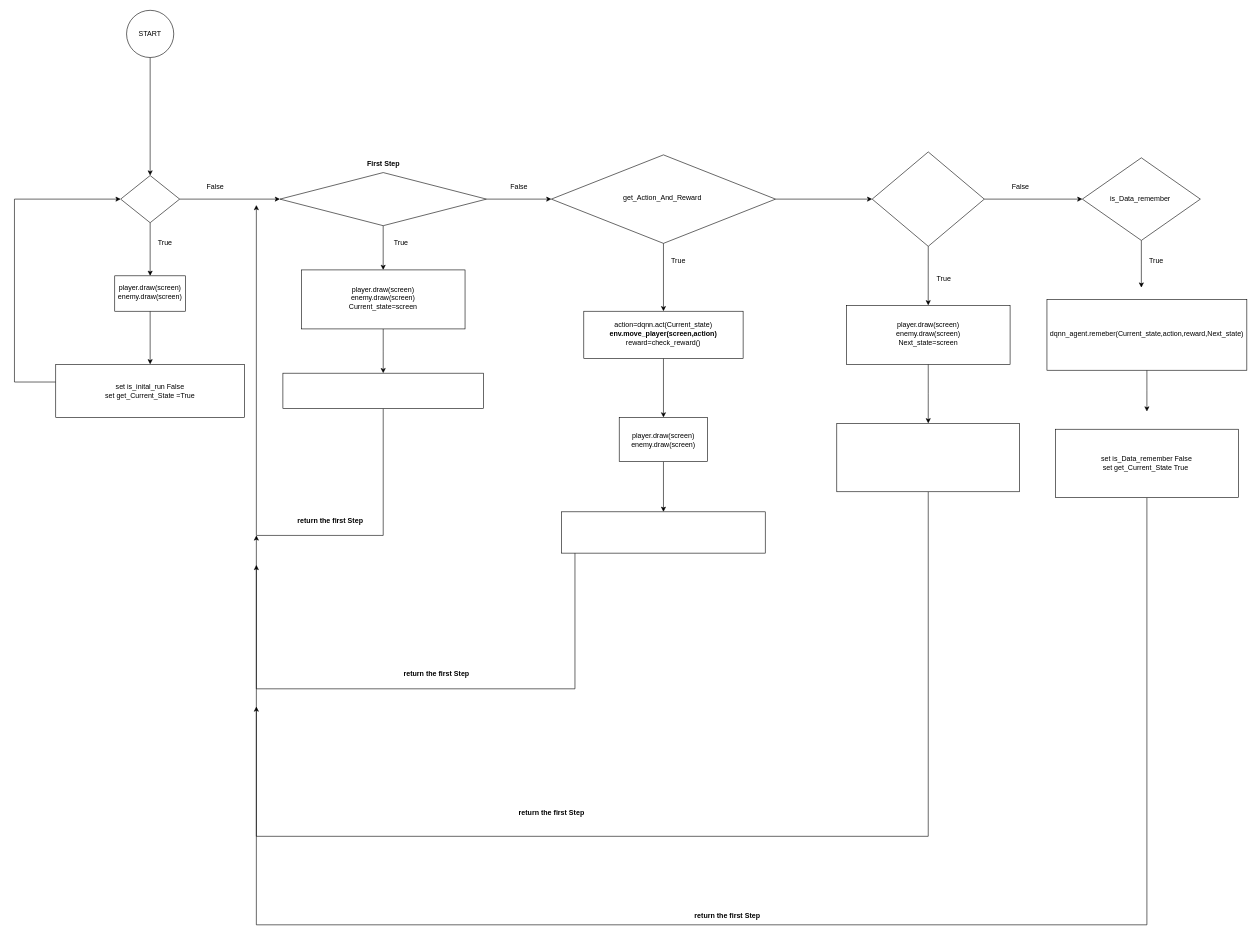
This 1257x940 diagram has some shape labels left out. The centre of each missing label's shape, as x and y in pixels:
"get_Current_State" goes at (x=382, y=199).
"get_Next_State" goes at (x=928, y=198).
"İs_initial_run?" goes at (x=150, y=199).
"Set get_Action_And_Reward False Set get_Next_State True" goes at (x=663, y=532).
"Set get_Current_State =False Set get_Action_And_Reward True" goes at (x=383, y=391).
"set get_Next_State False set is_Data_remember True" goes at (x=928, y=457).
